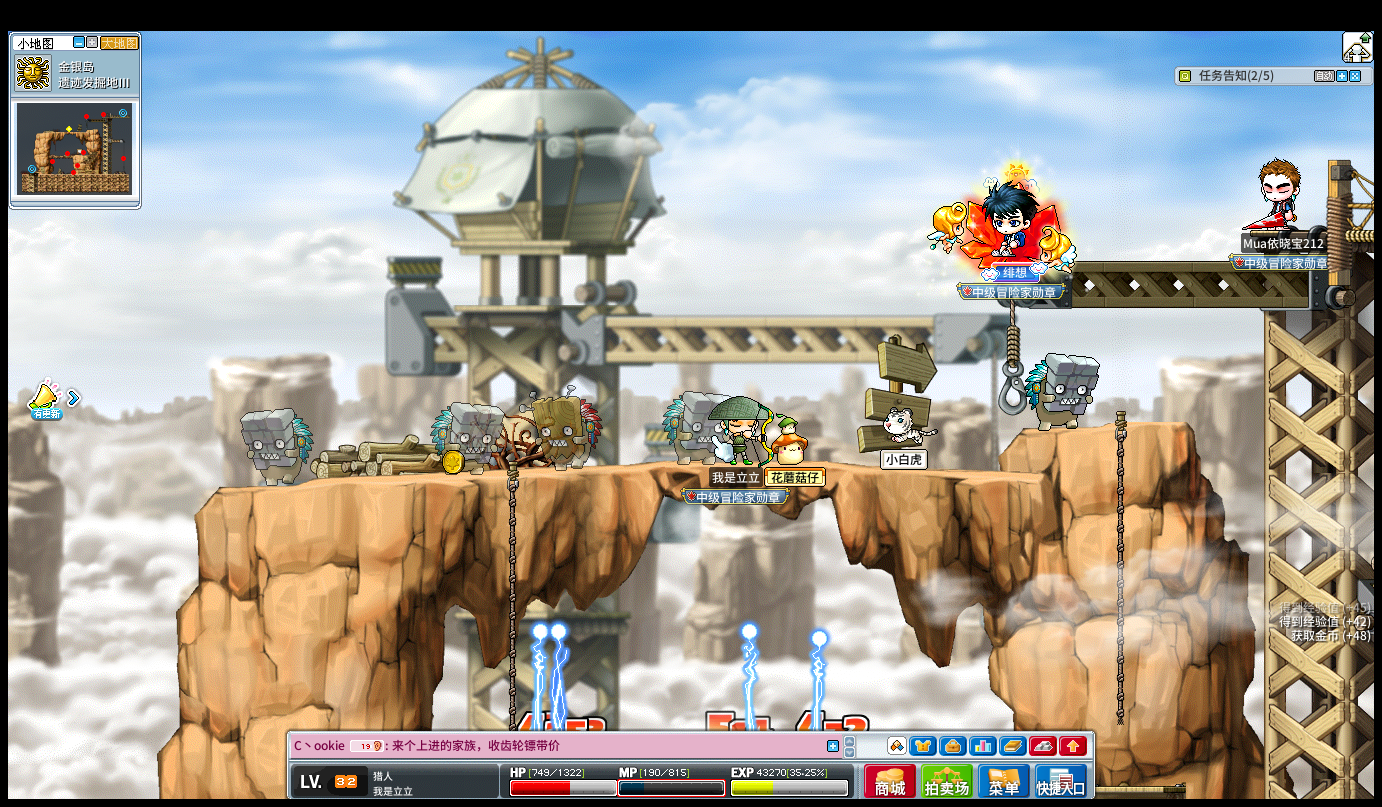floor: (206, 455, 1057, 486), (1018, 417, 1189, 433)
monster: (528, 389, 604, 470), (1024, 352, 1100, 432), (239, 408, 314, 488), (430, 401, 501, 475), (661, 391, 714, 465)
rope: (1111, 410, 1127, 728), (505, 459, 518, 784), (505, 457, 518, 689)
